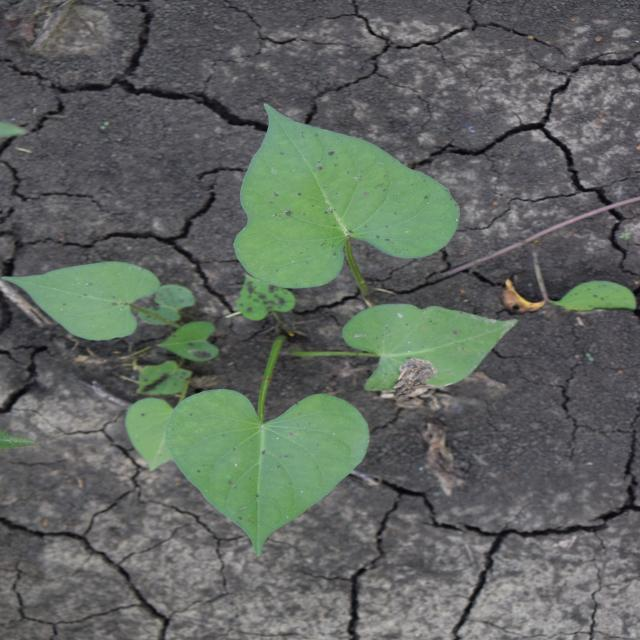MorningGlory: (2, 102, 638, 560)
